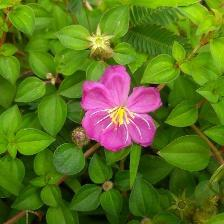malabar melastome: (79, 63, 169, 151)
